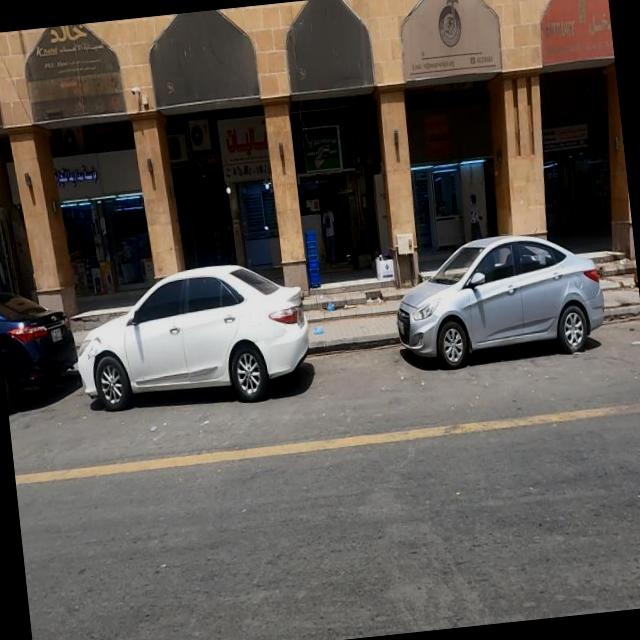debris: (353, 220, 421, 323), (299, 301, 339, 364), (309, 276, 348, 330)
